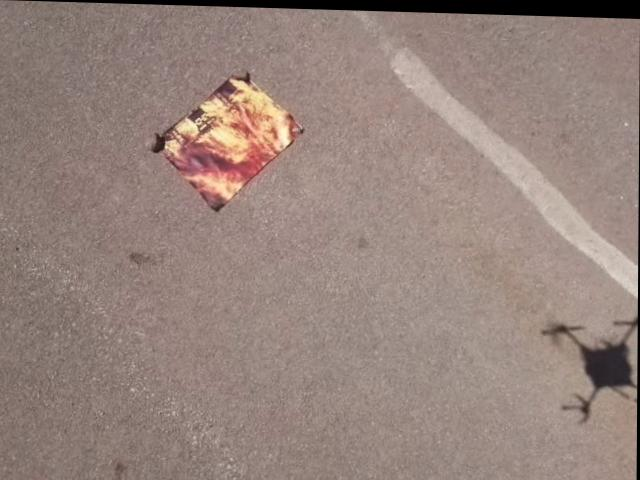fire-poster: (151, 66, 305, 214)
